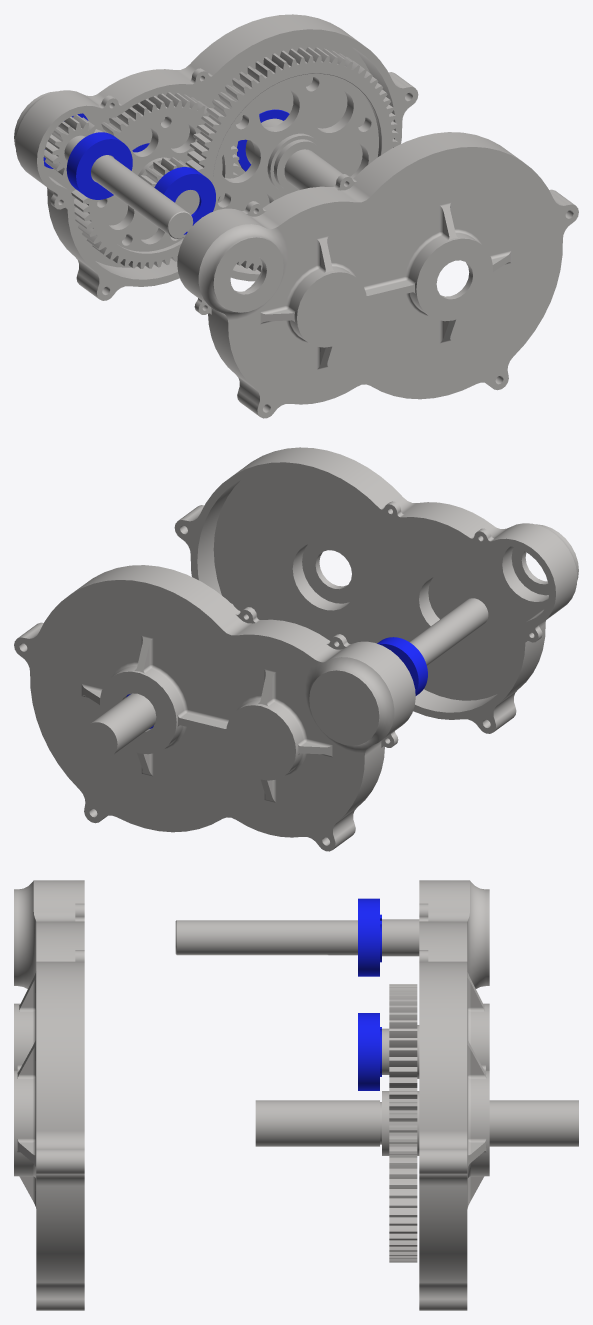
File: g-assembly.glb
3 renders of one model, top to bottom at view 1: azimuth 30°, elevation 25°; view 2: azimuth 150°, elevation 25°; view 3: azimuth 270°, elevation 25°, orthographic. The views are drawn at different scales.
Visible parts, largest first — view 1: Solid1 (×10); view 2: Solid1 (×5); view 3: Solid1 (×7).
Boxes of the visible parts, bbox=[...] form: Solid1 (×10): bbox=[14, 14, 578, 418]; Solid1 (×5): bbox=[14, 447, 578, 851]; Solid1 (×7): bbox=[14, 880, 578, 1310].
Size of the model in its own units: 0.2825 by 0.1789 by 0.304.
